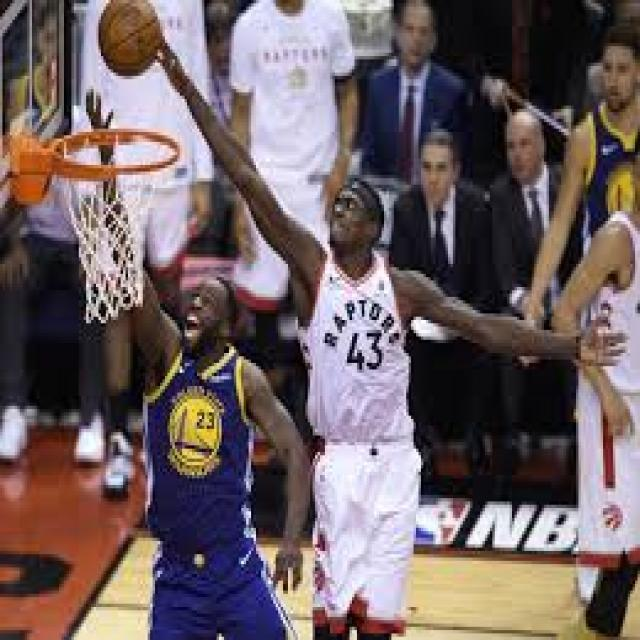rim: (96, 0, 160, 79)
